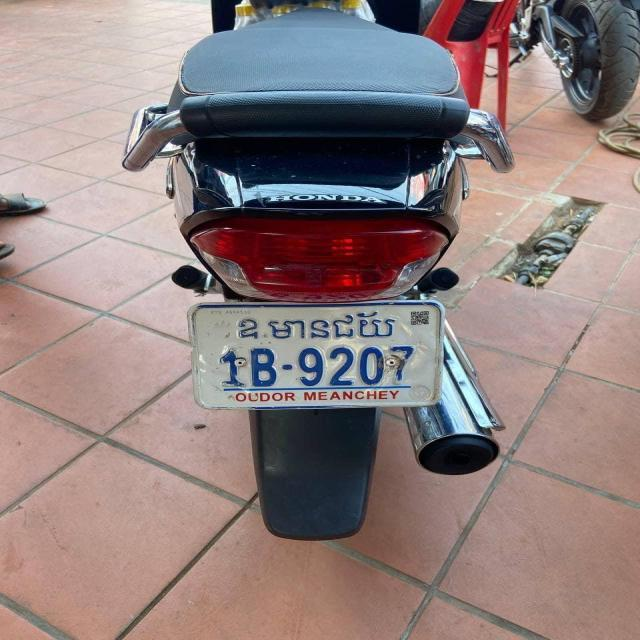Oudor_Meanchey: (239, 311, 397, 340)
